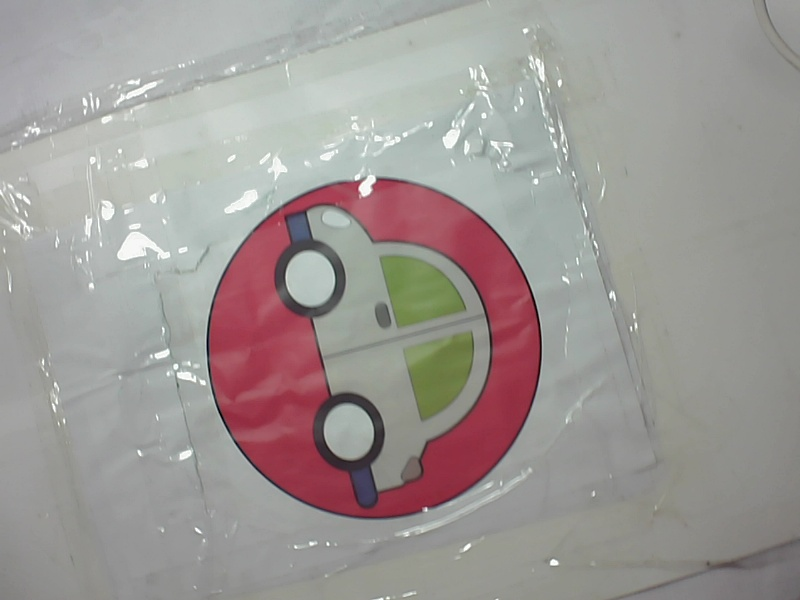areaC: (189, 174, 567, 526)
